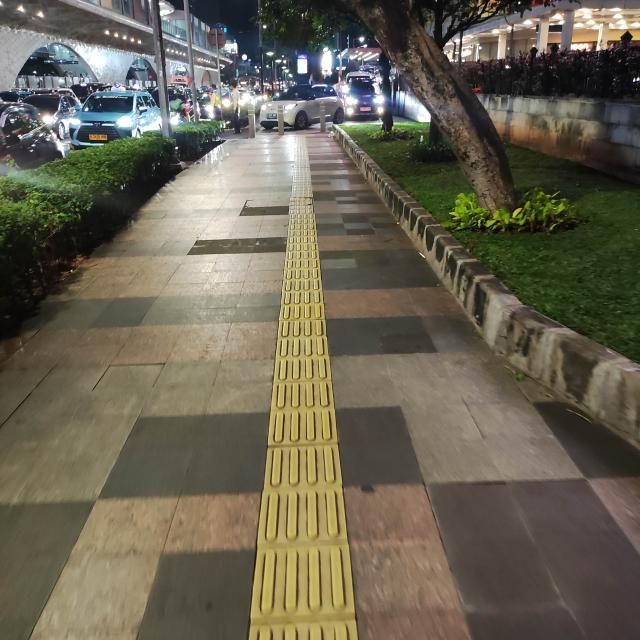lurus: (260, 137, 357, 640)
